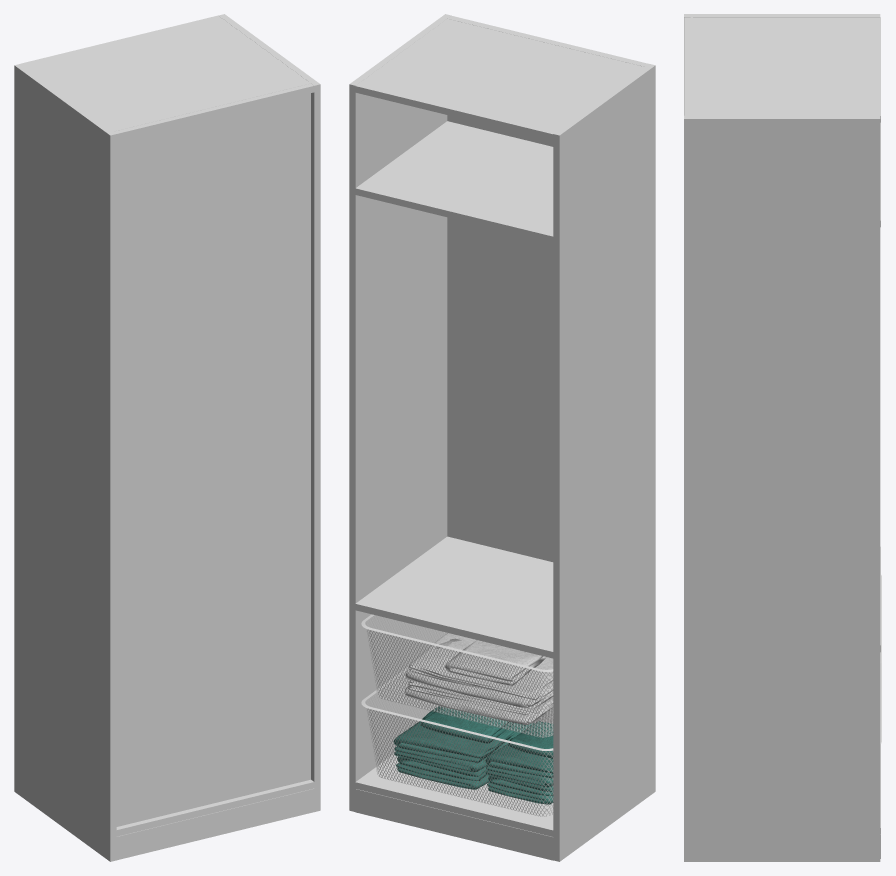
Rendered from 01685_Bundle_B.gltf.
3 renders of one model, left to right at view 1: azimuth 30°, elevation 25°; view 2: azimuth 150°, elevation 25°; view 3: azimuth 270°, elevation 25°, orthographic. The views are drawn at different scales.
Visible parts, largest first — view 1: Wardrobe Base; view 2: Wardrobe Base, Shelf.1, Shelf, Wire Basket_1-White Mesh, Wire Basket_2-White Mesh, Clothing.3, Clothing.1, Clothing.2, Wire Basket_1-Gloss White, Wire Basket_2-Gloss White; view 3: Wardrobe Base.
Boxes of the visible parts, left/top/right/bottom form: Wardrobe Base: left=14, top=14, right=320, bottom=861; Wardrobe Base: left=349, top=14, right=655, bottom=861; Shelf.1: left=355, top=536, right=553, bottom=658; Shelf: left=355, top=121, right=553, bottom=242; Wire Basket_1-White Mesh: left=365, top=670, right=553, bottom=816; Wire Basket_2-White Mesh: left=365, top=615, right=553, bottom=737; Clothing.3: left=405, top=633, right=553, bottom=724; Clothing.1: left=393, top=706, right=533, bottom=789; Clothing.2: left=485, top=721, right=553, bottom=804; Wire Basket_1-Gloss White: left=361, top=666, right=553, bottom=750; Wire Basket_2-Gloss White: left=361, top=614, right=553, bottom=671; Wardrobe Base: left=684, top=14, right=880, bottom=861.
Bounding box in the file's own units: 0.6059 × 2 × 0.4828.
5 materials, 3 textured.
